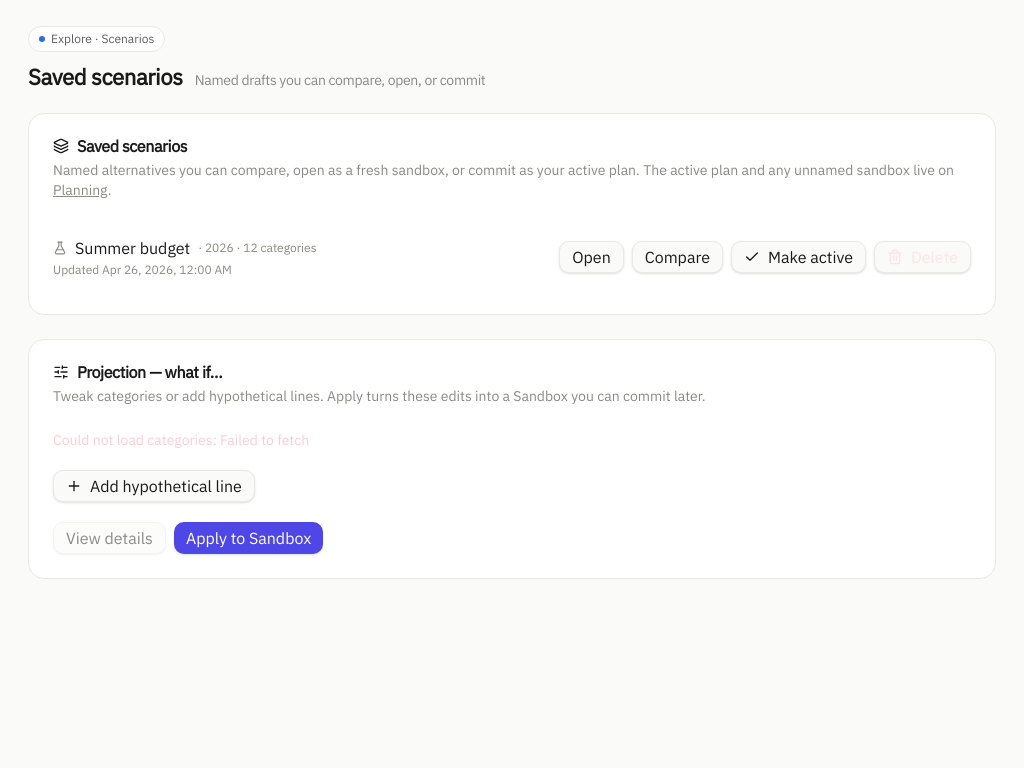
it: ScenariosPage › keeps modal open with inline error when save fails
This screenshot has width=1024, height=768.
Check: the text "Summer budget" is shown, box [75,236,190,260]
Click the button "Open" at (592, 257), box [559,241,624,273]
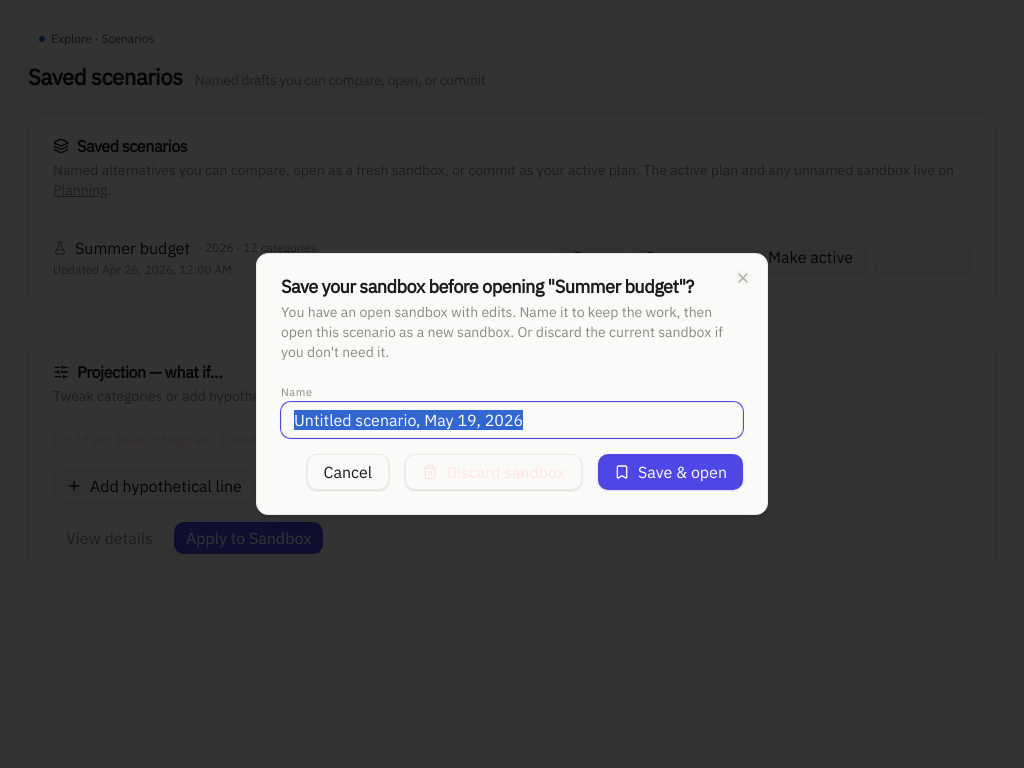
Click the button "Save & open" at (670, 472), box [598,454,743,490]
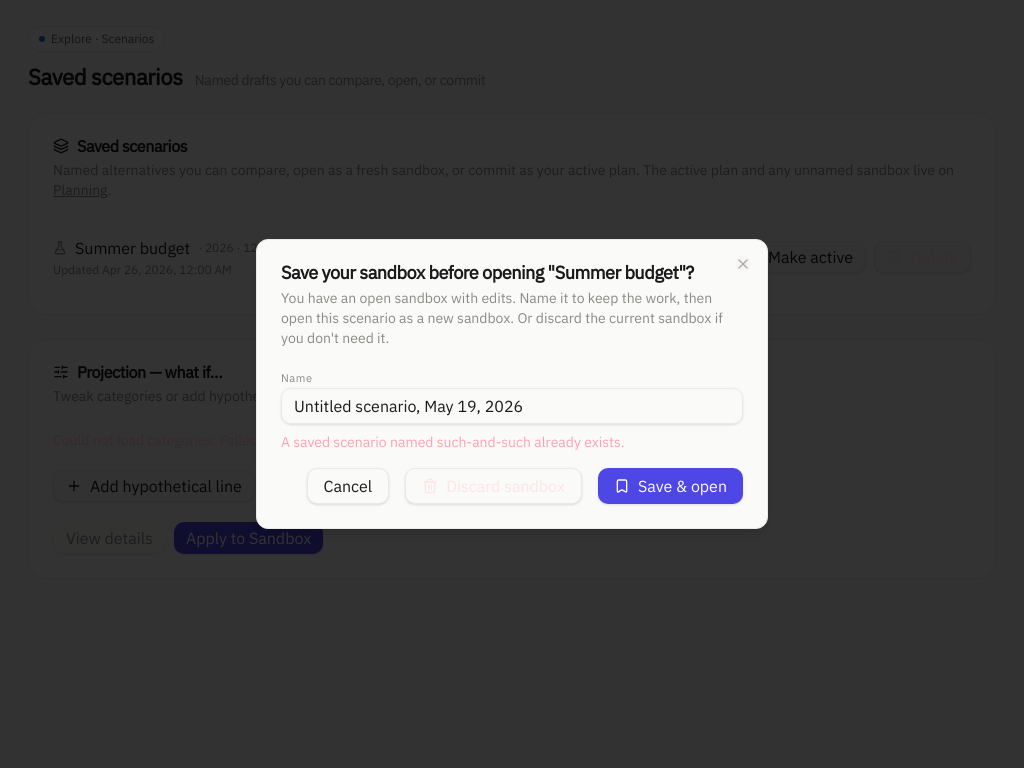
Check: the text "A saved scenario named such-and-such already exists." is shown, box [281,433,625,451]
